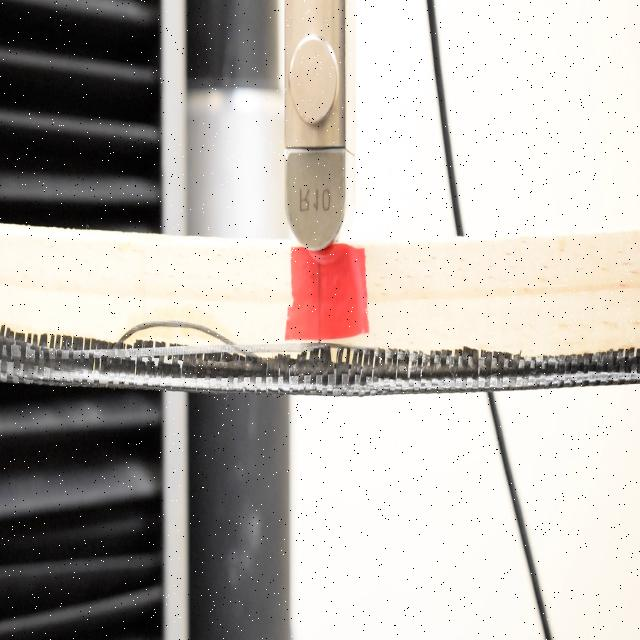wood: (2, 224, 639, 393)
